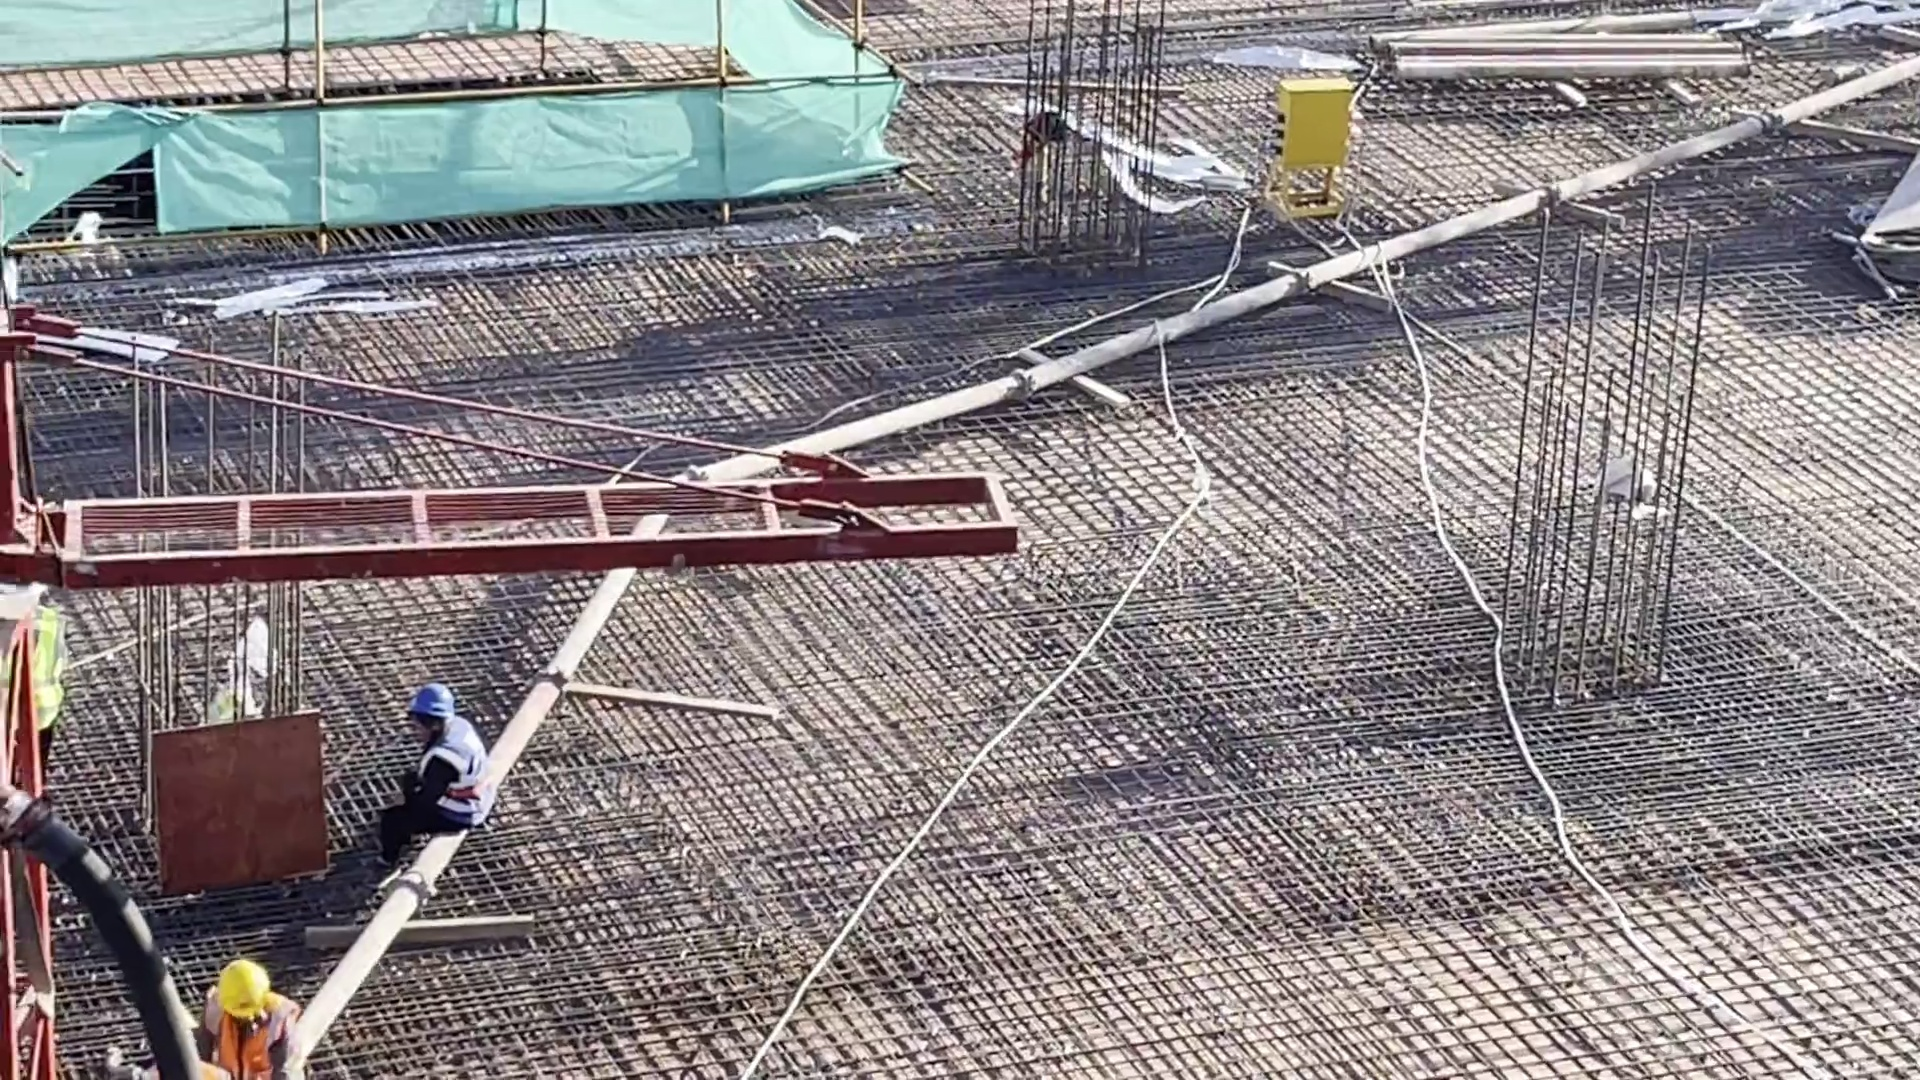helmet: (219, 954, 262, 1013), (406, 684, 453, 716)
person: (365, 681, 491, 871), (1, 589, 70, 822), (189, 958, 311, 1080)
vest: (412, 736, 493, 832), (205, 997, 293, 1080), (1, 612, 61, 725)
